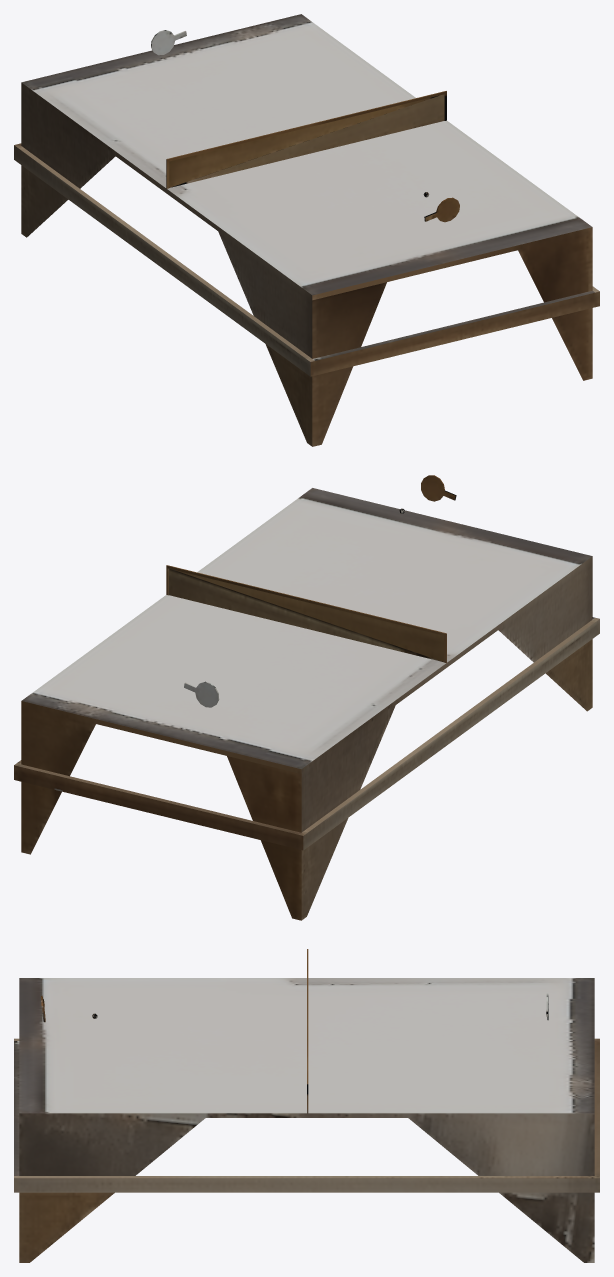
3 views of the same model, one above another, from view 1: azimuth 30°, elevation 25°; view 2: azimuth 150°, elevation 25°; view 3: azimuth 270°, elevation 25° (orthographic).
Parts seen in each view (by area): view 1: Node; view 2: Node; view 3: Node.
Boxes of the visible parts, left/top/right/bottom form: Node: left=14, top=14, right=599, bottom=446; Node: left=14, top=475, right=599, bottom=920; Node: left=14, top=949, right=599, bottom=1262.
Bounding box in the file's own units: 0.3945 × 0.2663 × 0.7.
1 material, 1 textured.
